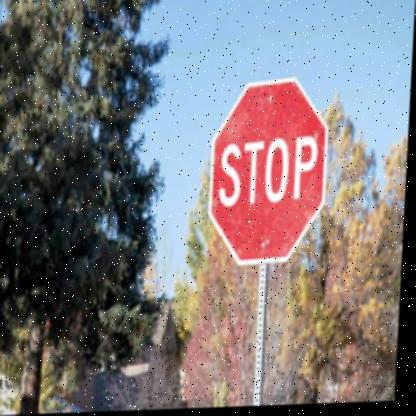Stop Sign: (207, 66, 336, 271)
